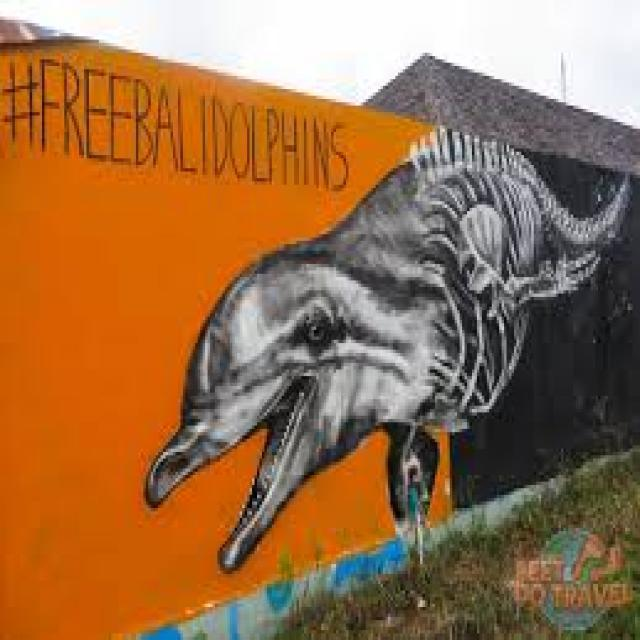-: (144, 127, 632, 573), (4, 59, 352, 191)
